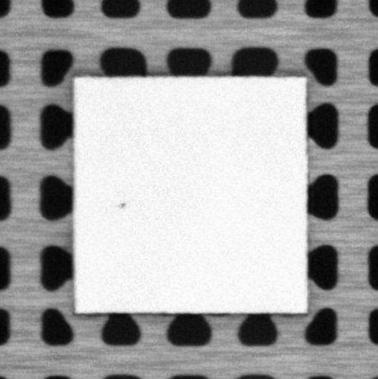DIE_INK: (115, 201, 127, 210)
